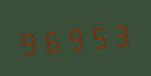five: (87, 19, 109, 52)
nine: (18, 25, 40, 59), (64, 21, 86, 54)
six: (41, 23, 63, 56)
three: (110, 17, 132, 50)
